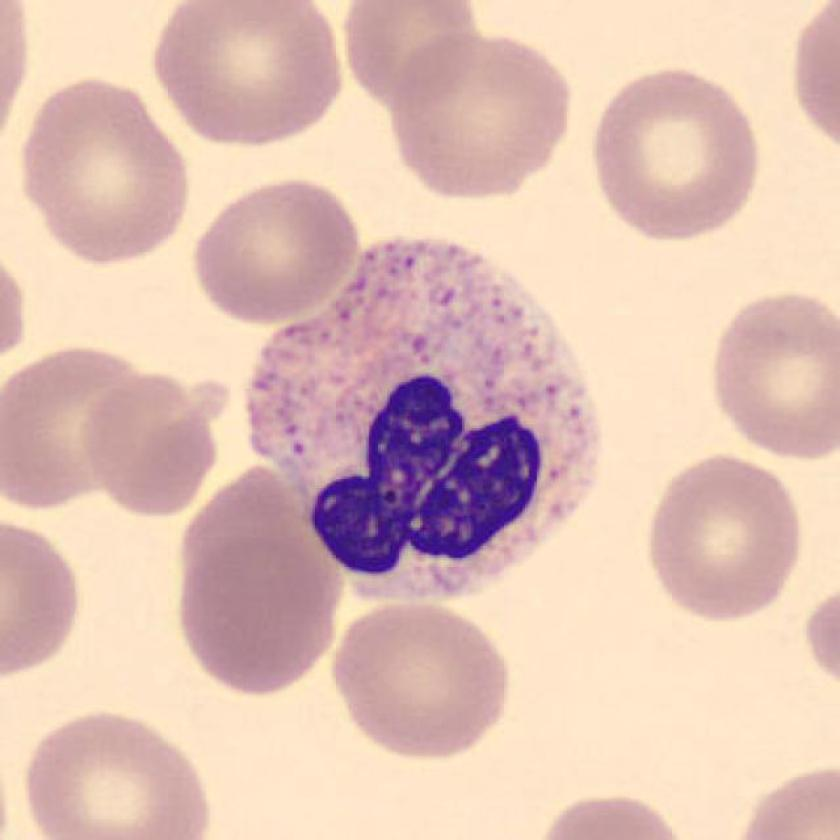neutrophil: (249, 239, 596, 609)
